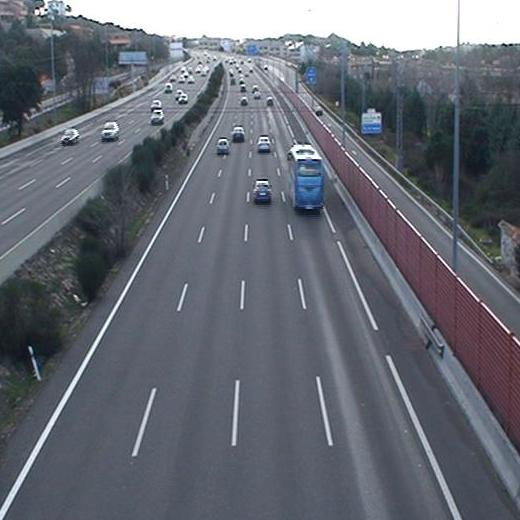bus: (284, 142, 328, 212)
car: (251, 178, 274, 201), (255, 134, 274, 154), (215, 137, 232, 154), (231, 125, 247, 140), (264, 96, 277, 108), (239, 95, 250, 106)
